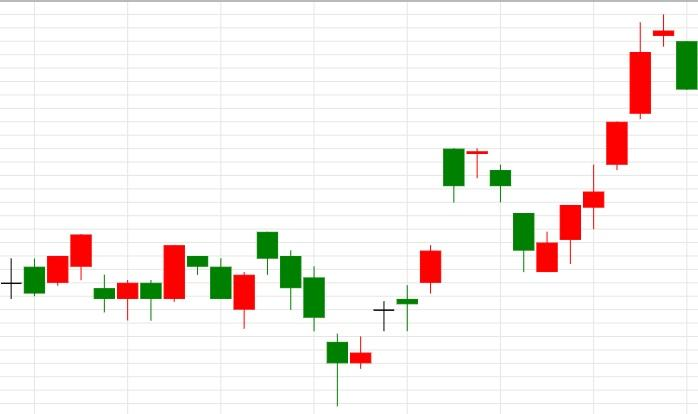hammer_rise: (257, 231, 349, 406)
three_white_soldiers_rise: (443, 148, 606, 273)
